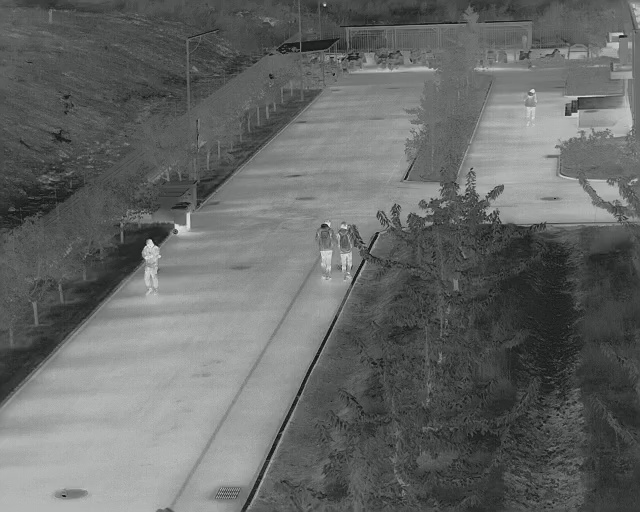person: (139, 237, 161, 295), (314, 217, 333, 281), (333, 221, 352, 280), (524, 87, 537, 127)
